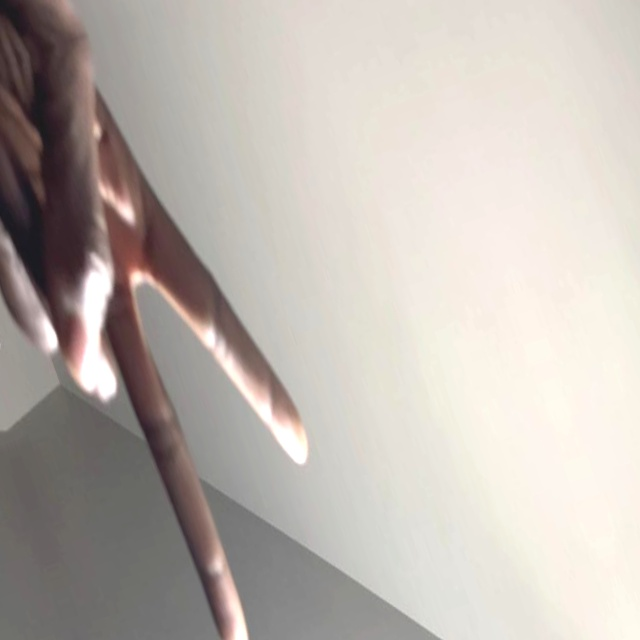Scissors: (627, 0, 640, 471)
